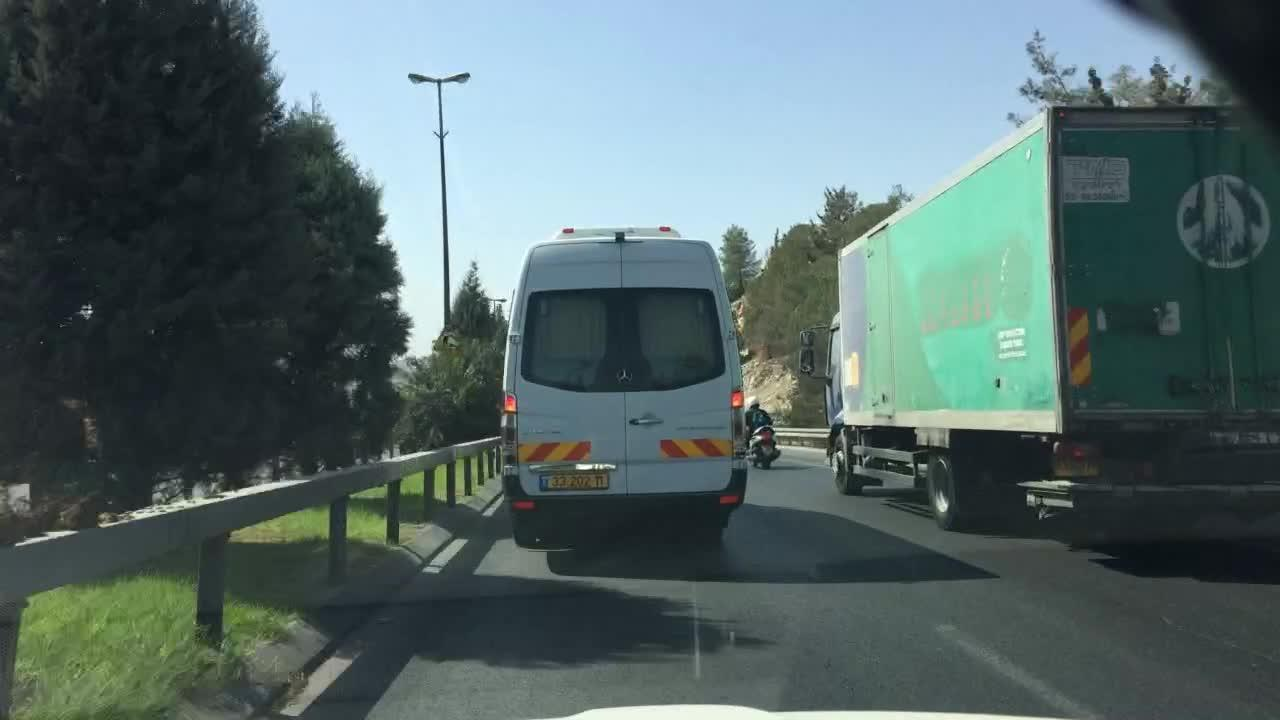Mercedes: (616, 366, 634, 386)
